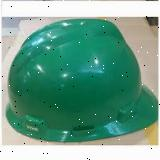Helmet: (5, 18, 160, 143)
